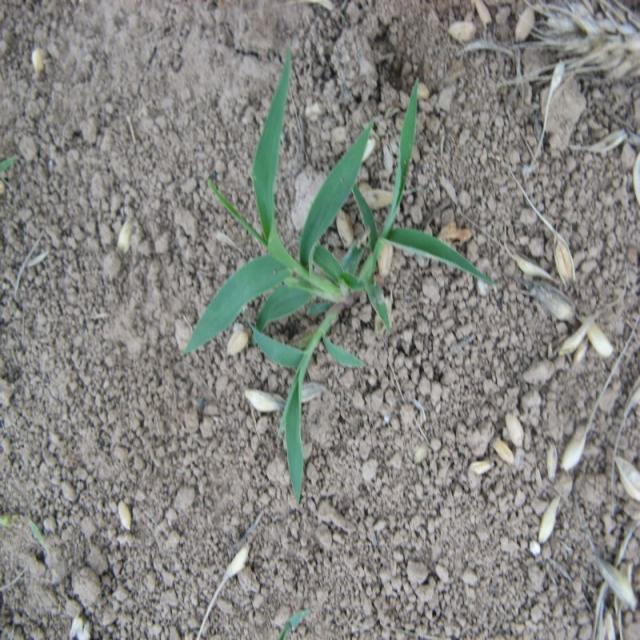bg: (176, 58, 491, 500)
